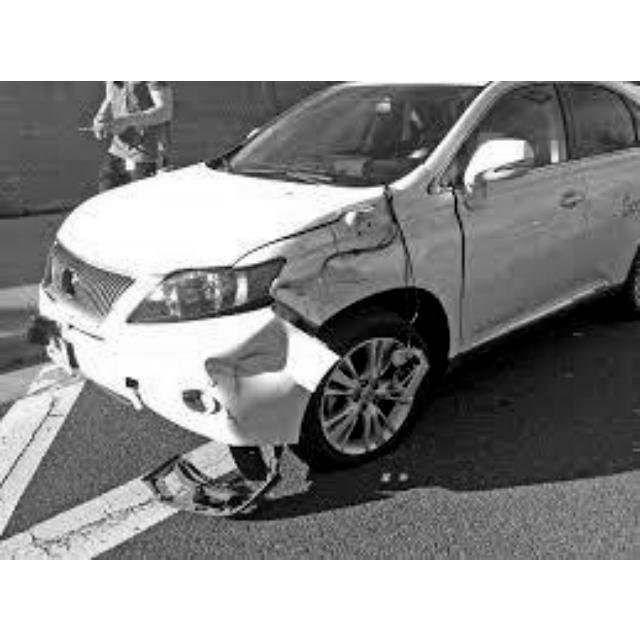fender-dent: (258, 184, 453, 314)
front-bumper-dent: (129, 338, 321, 441)
